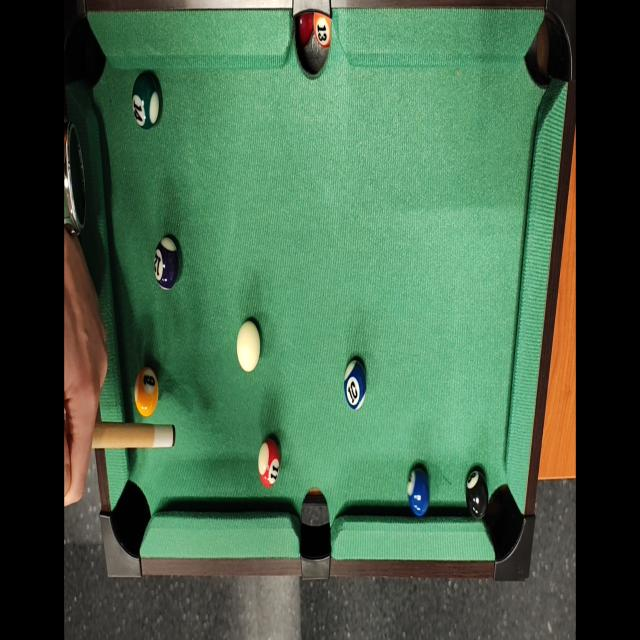cue ball: (235, 320, 266, 374)
other: (128, 66, 161, 135), (130, 363, 160, 420), (343, 357, 372, 413), (463, 469, 491, 526), (152, 236, 179, 295), (256, 435, 283, 490), (407, 459, 429, 518)
